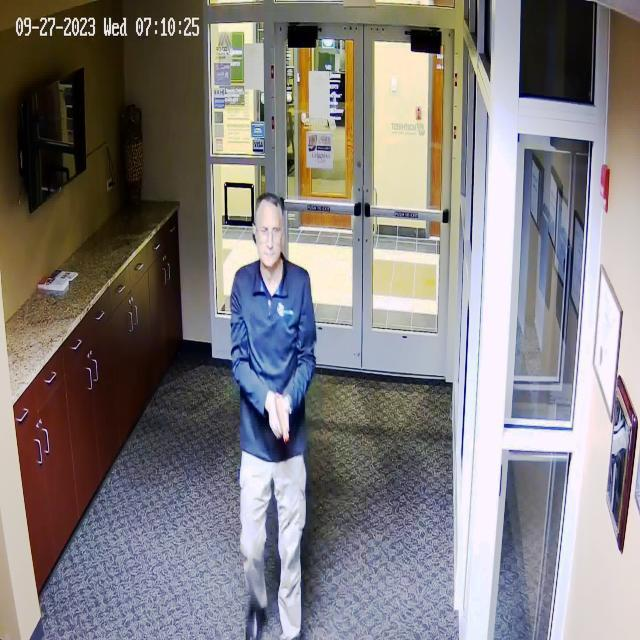Gun: (262, 383, 306, 448)
